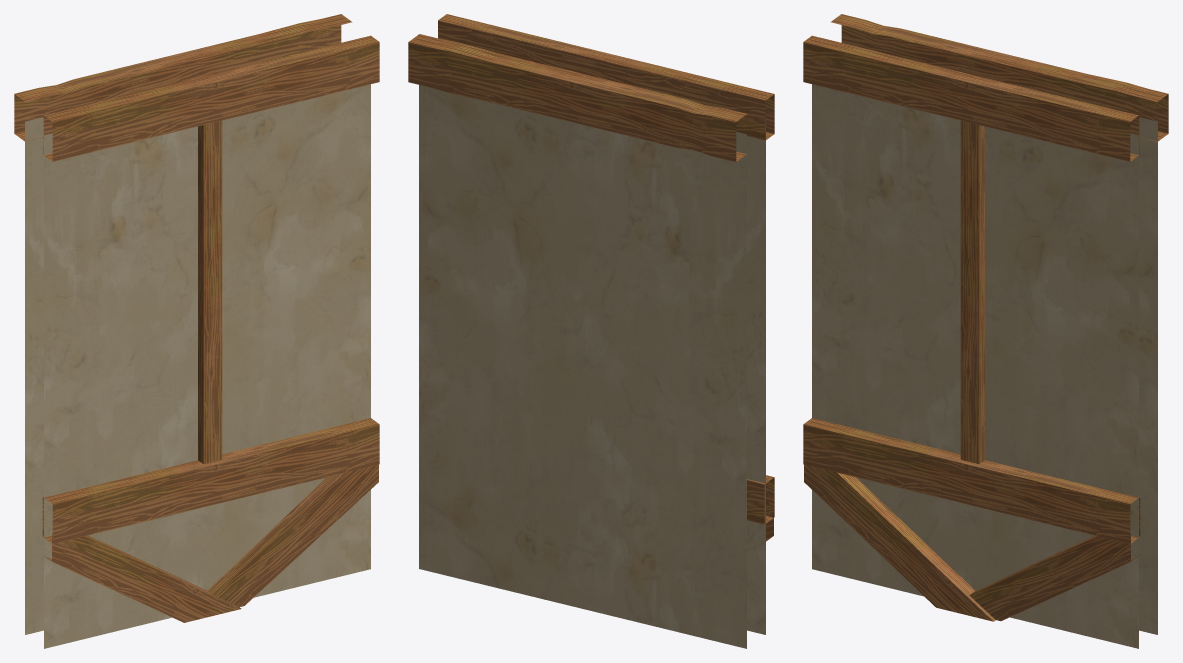
File: Wall_Plaster_Straight.gltf
3 renders of one model, left to right at view 1: azimuth 30°, elevation 25°; view 2: azimuth 150°, elevation 25°; view 3: azimuth 330°, elevation 25°, orthographic.
Parts seen in each view (by area): view 1: Wall_Plaster_Straight; view 2: Wall_Plaster_Straight; view 3: Wall_Plaster_Straight.
Part boxes in pixels (box(x1,y1,x2,y2)): Wall_Plaster_Straight: box(14, 14, 379, 648); Wall_Plaster_Straight: box(408, 14, 774, 648); Wall_Plaster_Straight: box(803, 14, 1168, 648).
Bounding box in the file's own units: 2 × 3.12 × 0.4065.
Materials: 2 (2 with a texture image).
